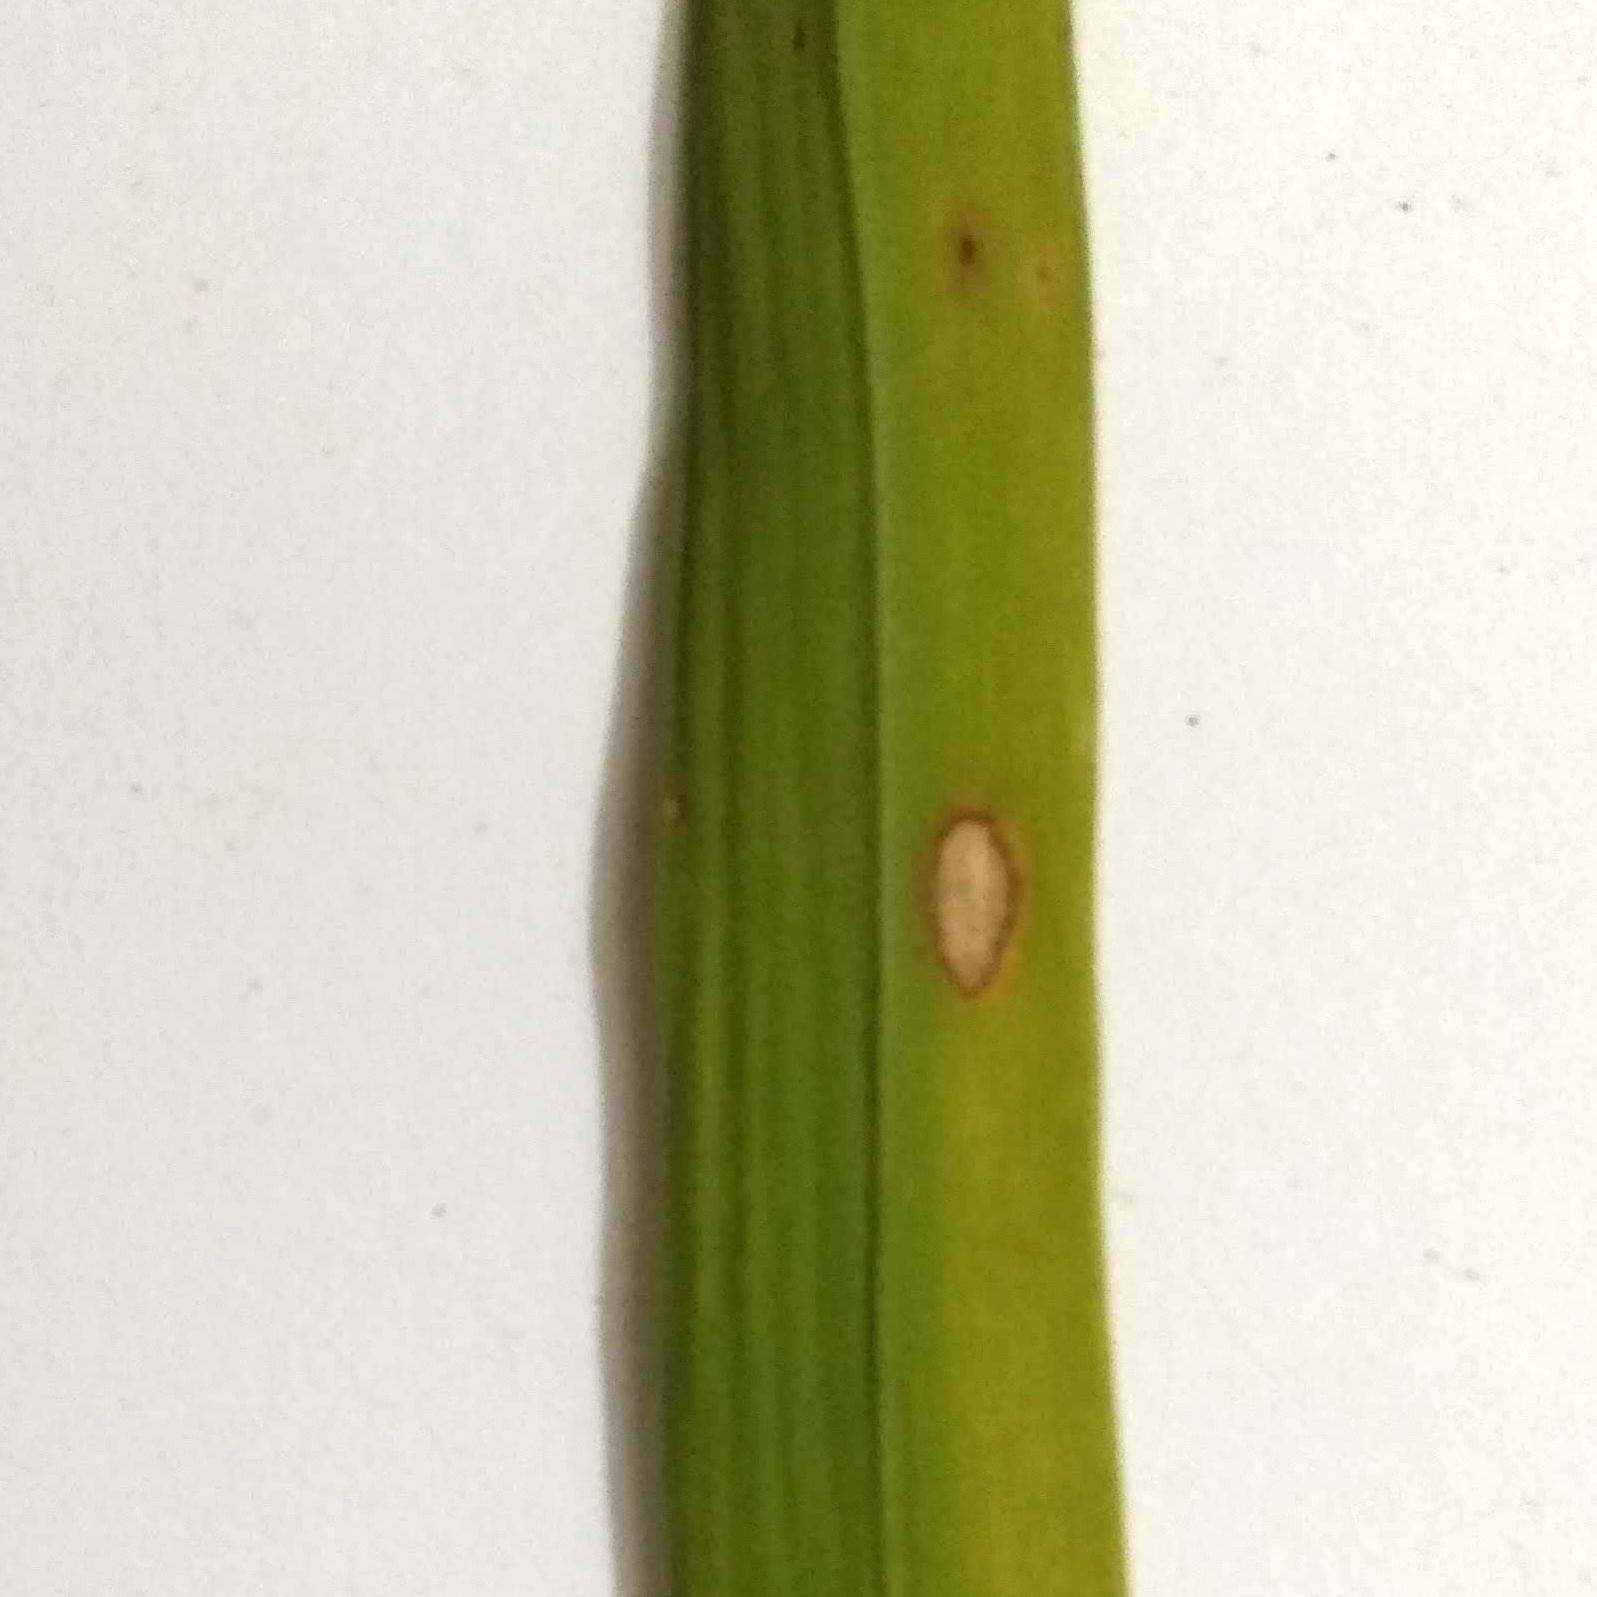1 RiceBlast: (894, 766, 1041, 1005)
